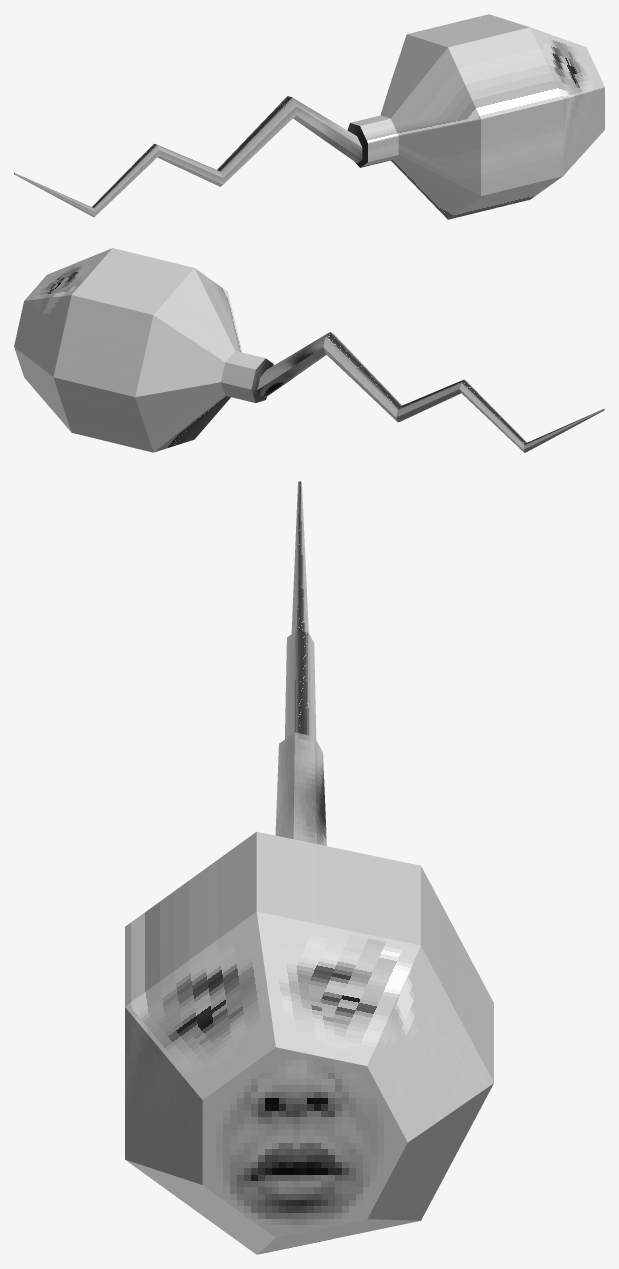
The model's file is SpermPlayer.glb.
3 renders of one model, top to bottom at view 1: azimuth 30°, elevation 25°; view 2: azimuth 150°, elevation 25°; view 3: azimuth 270°, elevation 25°, orthographic. The views are drawn at different scales.
Visible parts, largest first — view 1: Sperm_Head, Sperm_Tail; view 2: Sperm_Head, Sperm_Tail; view 3: Sperm_Head, Sperm_Tail.
Boxes of the visible parts, x1,y1,x2,y2 form: Sperm_Head: [347, 14, 604, 219]; Sperm_Tail: [14, 96, 362, 217]; Sperm_Head: [14, 248, 273, 452]; Sperm_Tail: [257, 332, 604, 452]; Sperm_Head: [125, 831, 493, 1254]; Sperm_Tail: [275, 481, 326, 845].
Size of the model in its own units: 6.7 by 1.95 by 1.9.
2 materials, 2 textured.
